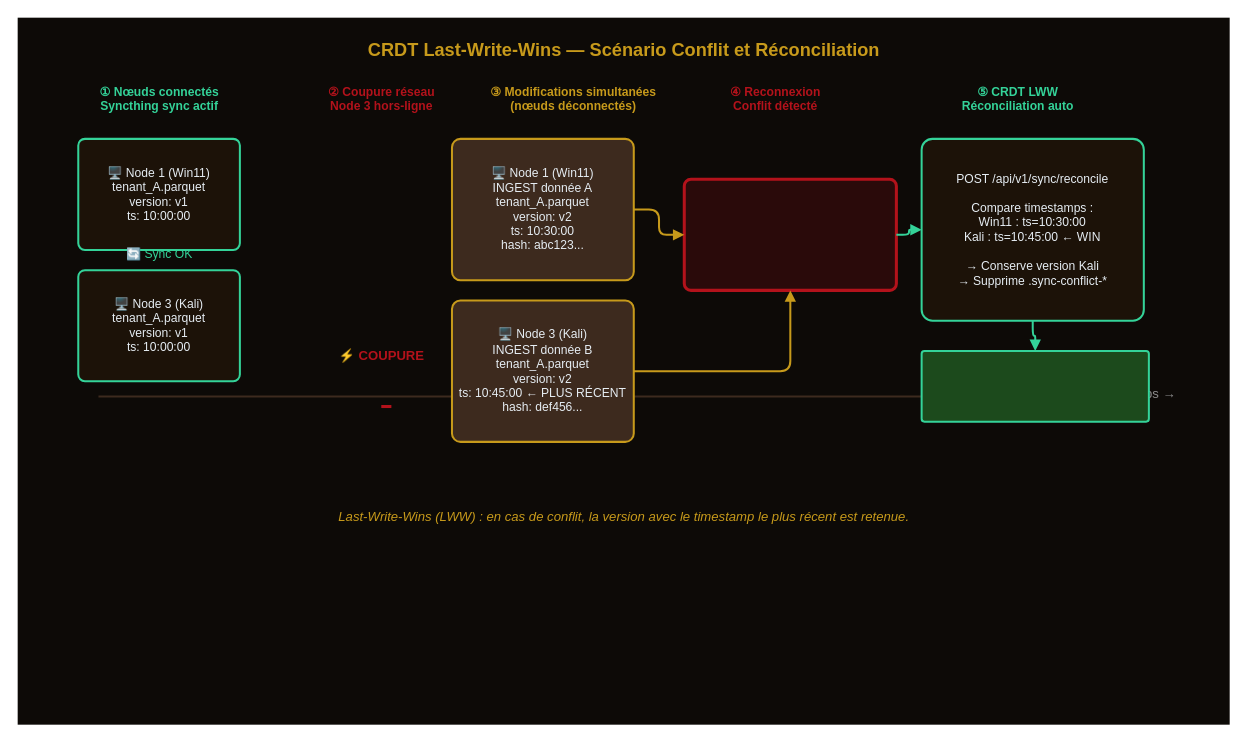
Image size: 1246x741. Some labels were removed from this diagram. Each missing label, with the centre of its shape:
{"status": "reconciled", "conflicts_resolved": 1, "merged_records": 1}: pixel 1034 385
⚠️ Syncthing détecte tenant_A.sync-conflict- 20260530-103000-N1.parquet: pixel 789 234
